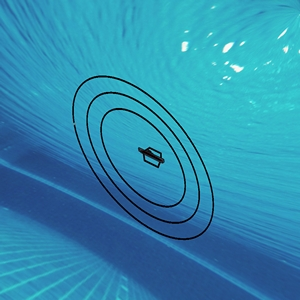circle: (67, 56, 228, 262)
submarine: (136, 146, 163, 167)
